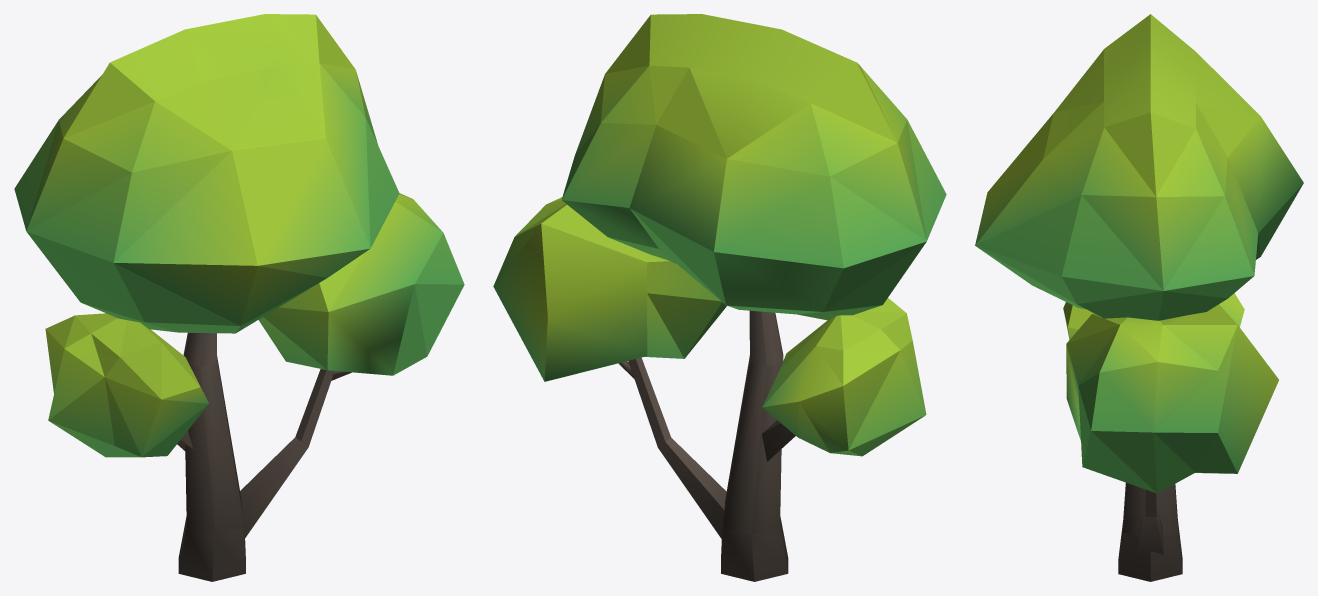
The model's file is tree_2.FBX.
3 views of the same model, side by side, from view 1: azimuth 30°, elevation 25°; view 2: azimuth 150°, elevation 25°; view 3: azimuth 270°, elevation 25° (orthographic). The views are drawn at different scales.
Parts seen in each view (by area): view 1: tree_2; view 2: tree_2; view 3: tree_2.
Boxes of the visible parts, x1,y1,x2,y2 form: tree_2: (14,14,464,581); tree_2: (493,14,946,581); tree_2: (975,14,1303,581).
Bounding box in the file's own units: 248 × 317 × 182.
